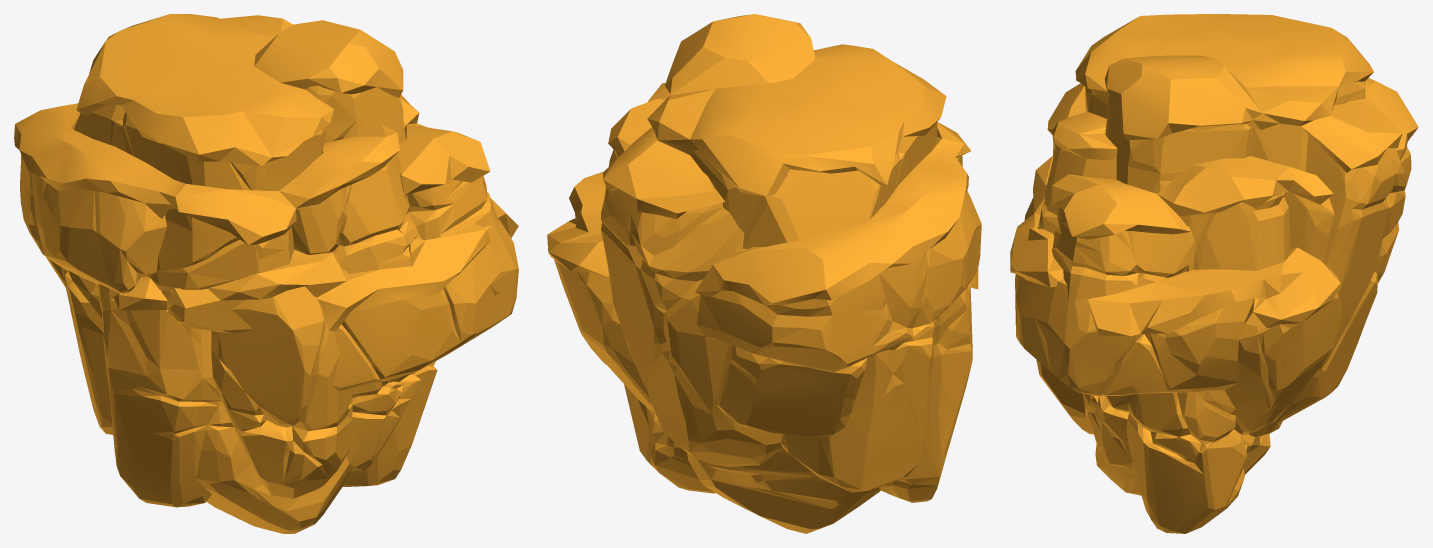
File: SM_Rock_F_Snow.fbx
The picture shows the model from 3 angles, left to right: view 1: azimuth 30°, elevation 25°; view 2: azimuth 150°, elevation 25°; view 3: azimuth 270°, elevation 25°; orthographic projection. The views are drawn at different scales.
Visible parts, largest first — view 1: rock-f-snow; view 2: rock-f-snow; view 3: rock-f-snow.
Part boxes in pixels (<box>): rock-f-snow: <box>14,14,518,533</box>; rock-f-snow: <box>547,14,981,533</box>; rock-f-snow: <box>1010,14,1418,533</box>.
Size of the model in its own units: 10.08 by 11.72 by 9.31.
